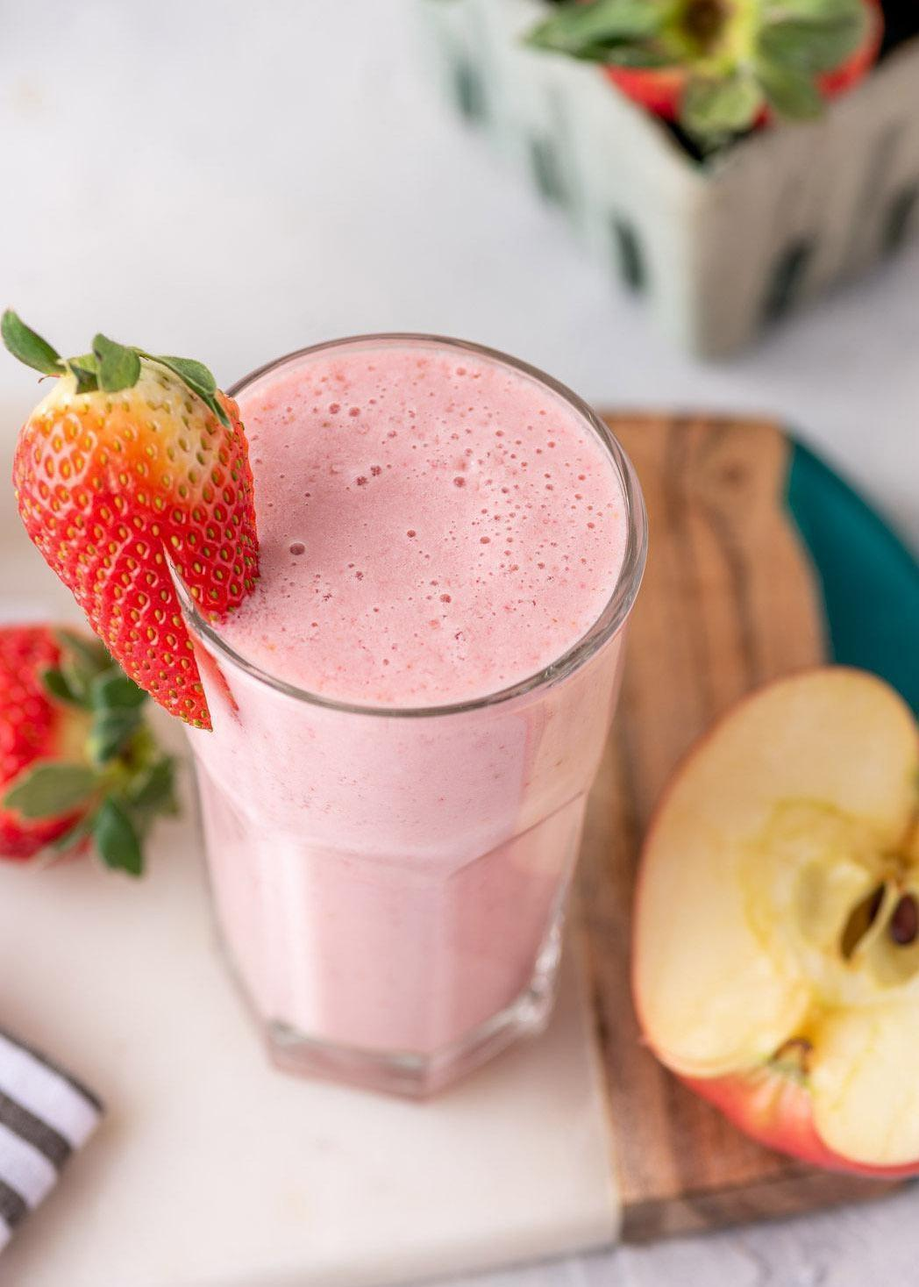glass-normal: (166, 332, 652, 1100)
